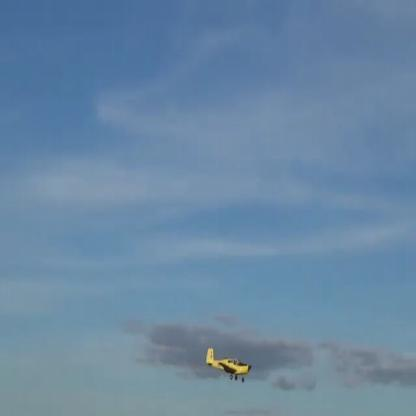aircraft: (205, 347, 252, 383)
